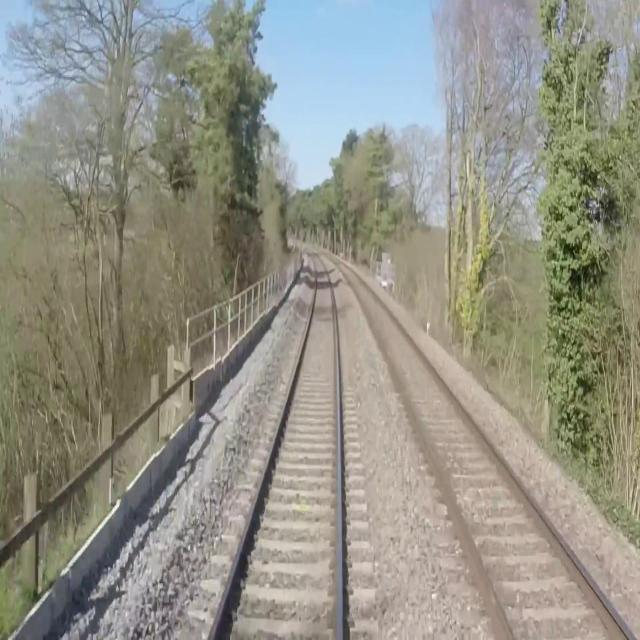rail-track: (328, 255, 629, 639), (212, 252, 337, 639)
